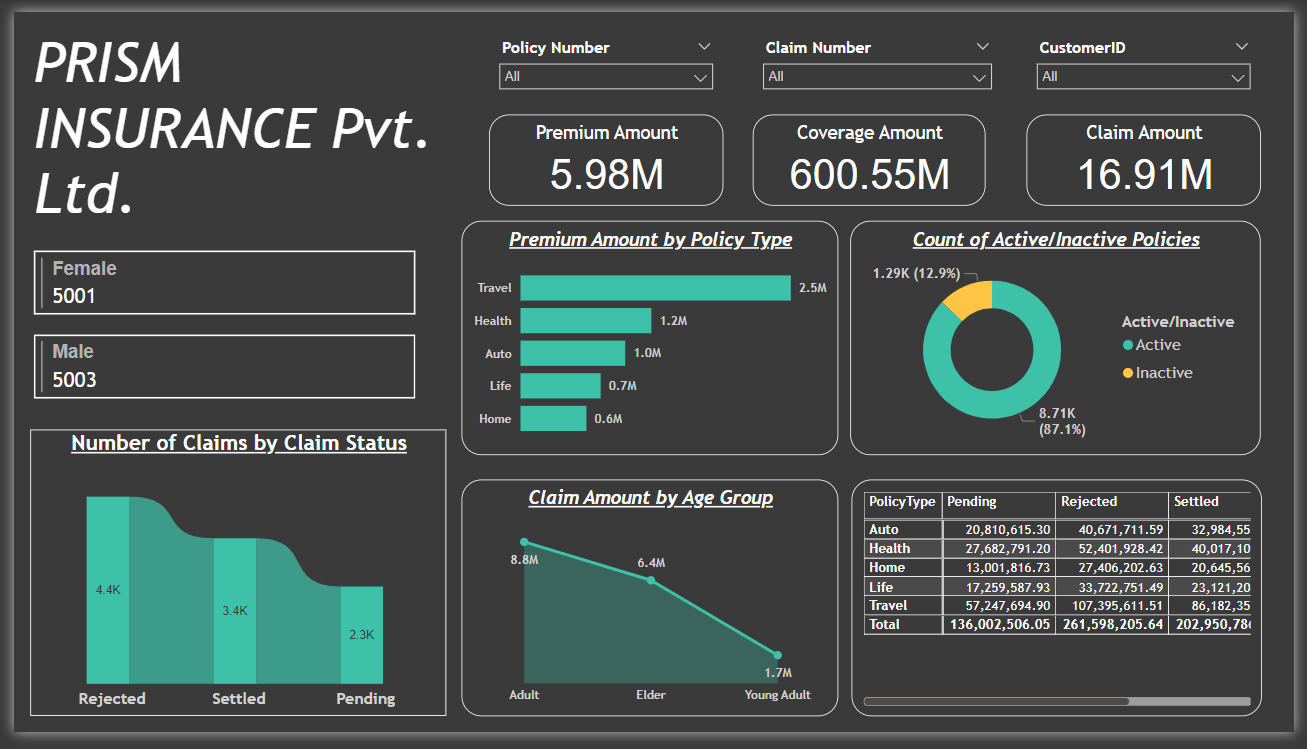

The dashboard page shown, as its layout file describes it:
{"tool":"powerbi","page":{"name":"Page 1","canvas":[1280,720],"ordinal":0},"visuals":[{"type":"slicer","fields":{"Values":["InsuranceData.PolicyNumber"]},"box":[475.2,21.5,234.2,67.3],"z":0},{"type":"slicer","fields":{"Values":["InsuranceData.ClaimNumber"]},"box":[739.1,21.5,249.1,67.3],"z":1000},{"type":"slicer","fields":{"Values":["InsuranceData.CustomerID"]},"box":[1012.4,21.5,234.2,67.3],"z":2000},{"type":"textbox","box":[14.8,12.1,420,211.4],"z":3000},{"type":"card","title":"Premium Amount","fields":{"Values":["Sum(InsuranceData.PremiumAmount)"]},"box":[475.2,102.3,234.2,91.5],"z":4000},{"type":"card","title":"Coverage Amount","fields":{"Values":["Sum(InsuranceData.CoverageAmount)"]},"box":[739.1,102.3,232.9,91.5],"z":5000},{"type":"card","title":"Claim Amount","fields":{"Values":["Sum(InsuranceData.ClaimAmount)"]},"box":[1012.4,102.3,234.2,91.5],"z":6000},{"type":"multiRowCard","fields":{"Values":["InsuranceData.Gender","CountNonNull(InsuranceData.Gender)"]},"box":[14.8,234.2,391.8,183.1],"z":7000},{"type":"ribbonChart","title":"Number of Claims by Claim Status","fields":{"Category":["InsuranceData.ClaimStatus"],"Y":["CountNonNull(InsuranceData.ClaimStatus)"]},"box":[16.2,417.3,416,286.7],"z":8000},{"type":"barChart","title":"Premium Amount by Policy Type","fields":{"Category":["InsuranceData.PolicyType"],"Y":["Sum(InsuranceData.PremiumAmount)"]},"box":[447,208.7,376.9,234.2],"z":9000},{"type":"lineChart","title":"Claim Amount by Age Group","fields":{"Category":["InsuranceData.Age_Group"],"Y":["Sum(InsuranceData.ClaimAmount)"]},"box":[447,467.1,376.9,236.9],"z":10000},{"type":"donutChart","title":"Count of Active/Inactive Policies","fields":{"Category":["InsuranceData.Active/Inactive"],"Y":["CountNonNull(InsuranceData.Active/Inactive)"]},"box":[836,208.7,410.6,234.2],"z":11000},{"type":"pivotTable","fields":{"Values":["Sum(InsuranceData.CoverageAmount)"],"Rows":["InsuranceData.PolicyType"],"Columns":["InsuranceData.ClaimStatus"]},"box":[837.4,467.1,410.6,236.9],"z":11001}]}

Visuals, with their boxes in screenshot pixels (x1, y1, x2, y2), scaled from the page's 1280x720 canvas onto the 1307x749 screenshot:
slicer - InsuranceData.PolicyNumber: crop(485, 22, 724, 92)
slicer - InsuranceData.ClaimNumber: crop(755, 22, 1009, 92)
slicer - InsuranceData.CustomerID: crop(1034, 22, 1273, 92)
textbox: crop(15, 13, 444, 233)
"Premium Amount" card: crop(485, 106, 724, 202)
"Coverage Amount" card: crop(755, 106, 993, 202)
"Claim Amount" card: crop(1034, 106, 1273, 202)
multiRowCard - InsuranceData.Gender x CountNonNull(InsuranceData.Gender): crop(15, 244, 415, 434)
"Number of Claims by Claim Status" ribbonChart: crop(17, 434, 441, 732)
"Premium Amount by Policy Type" barChart: crop(456, 217, 841, 461)
"Claim Amount by Age Group" lineChart: crop(456, 486, 841, 732)
"Count of Active/Inactive Policies" donutChart: crop(854, 217, 1273, 461)
pivotTable - Sum(InsuranceData.CoverageAmount) x InsuranceData.PolicyType: crop(855, 486, 1274, 732)
